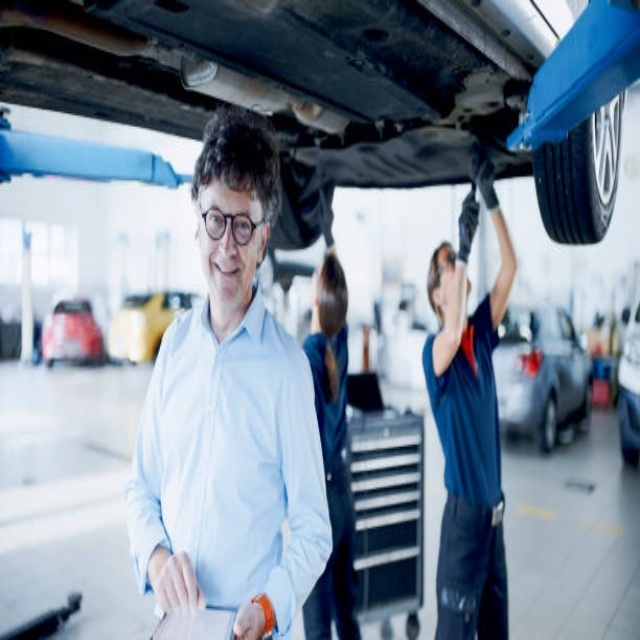Gafas: (198, 207, 267, 245), (432, 257, 453, 286)
Guantes: (471, 143, 501, 211), (457, 190, 480, 265), (317, 181, 336, 250)
Sin_guantes: (151, 548, 203, 621), (232, 595, 271, 640)
Sin_mascara: (209, 253, 247, 301)
